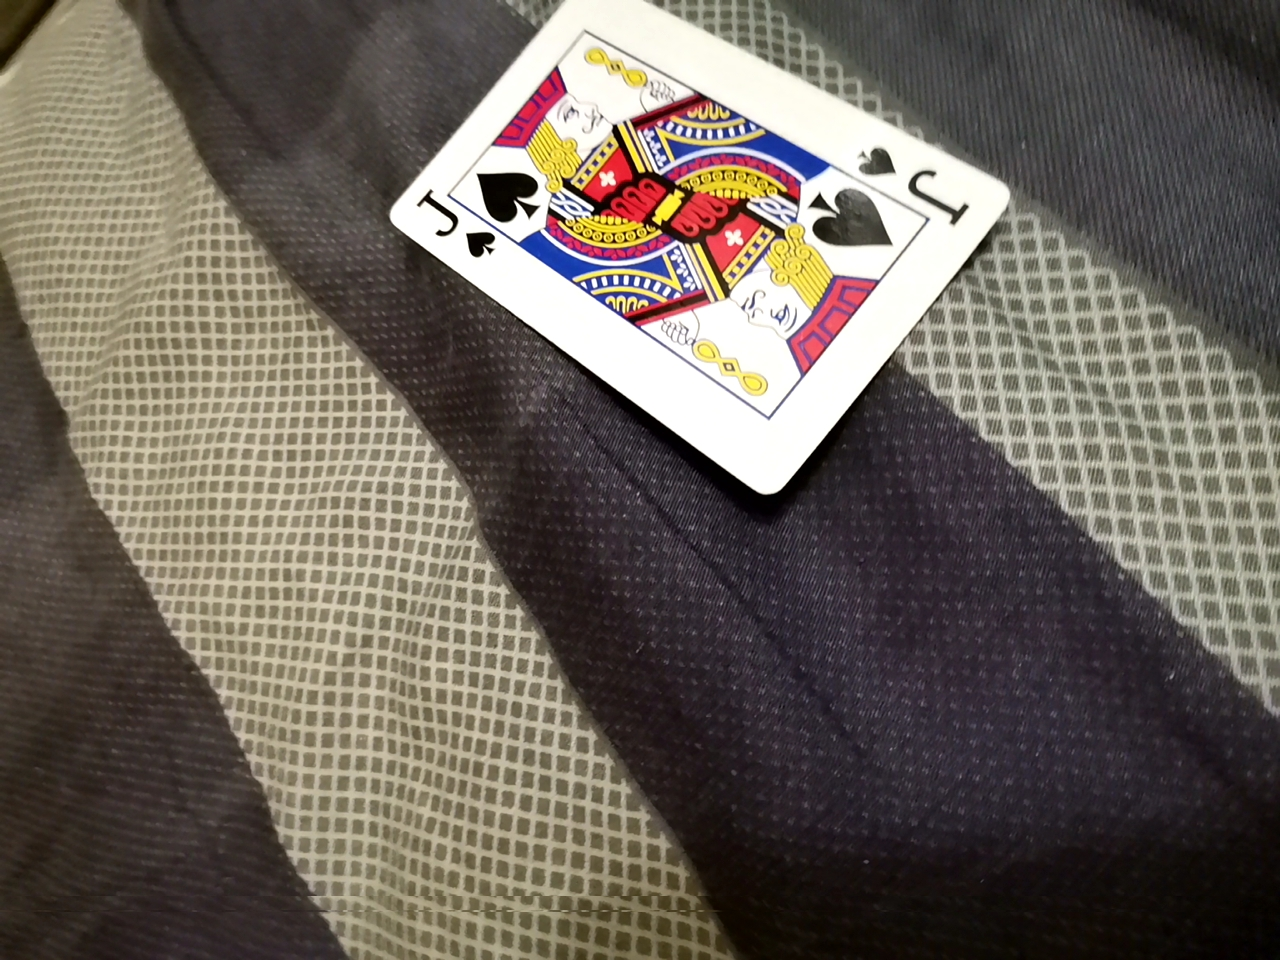ht j: (358, 35, 958, 508)
